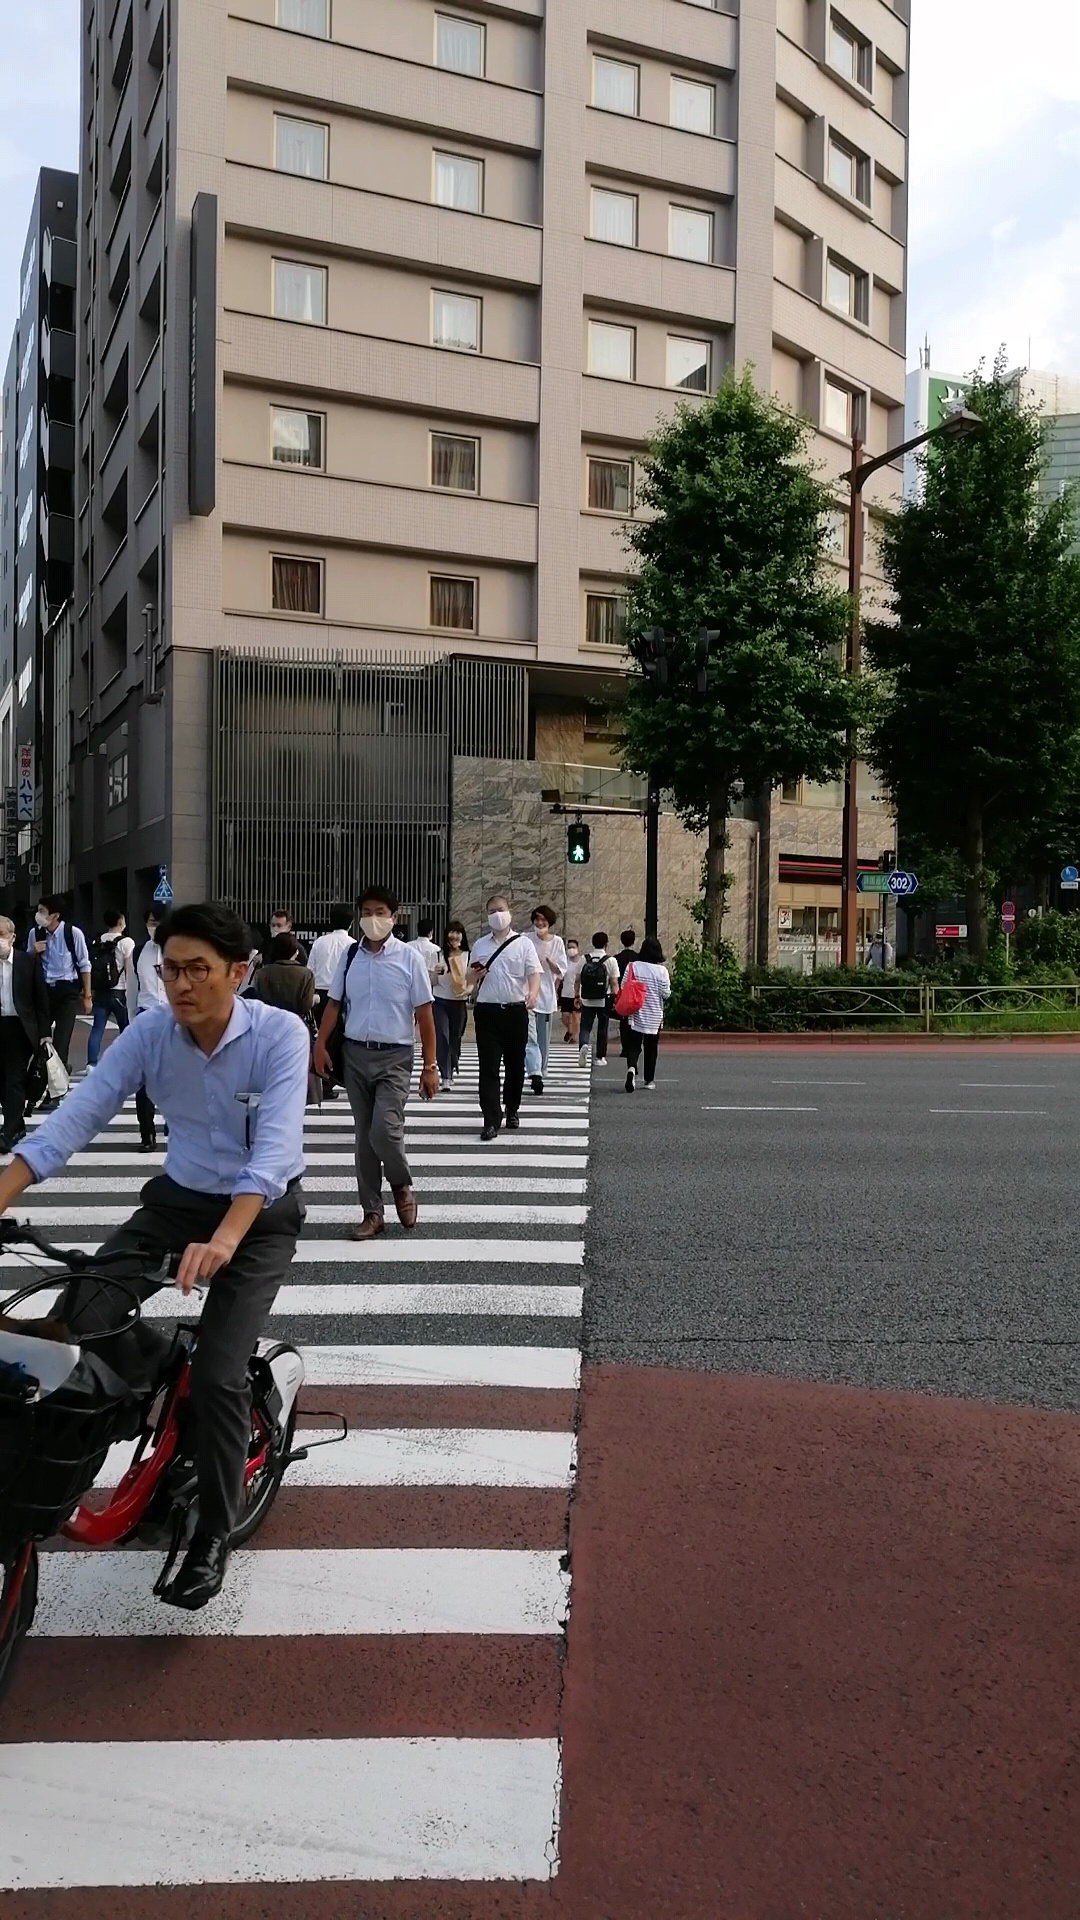green: (567, 823, 589, 864)
